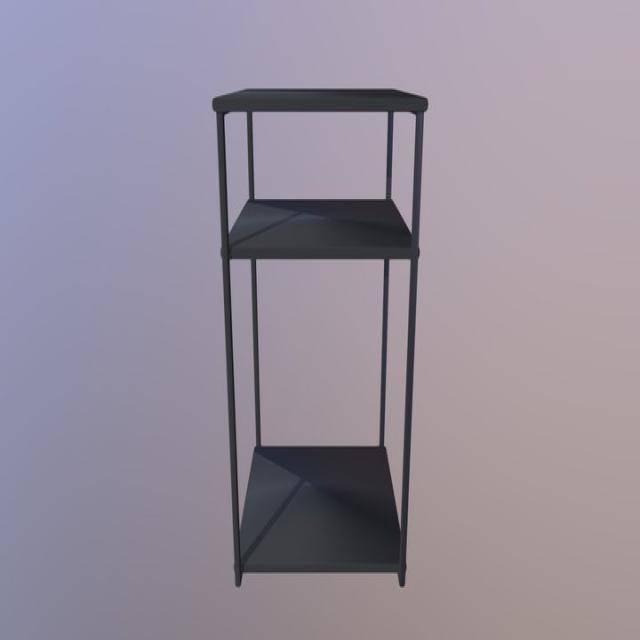table: (214, 89, 428, 588)
